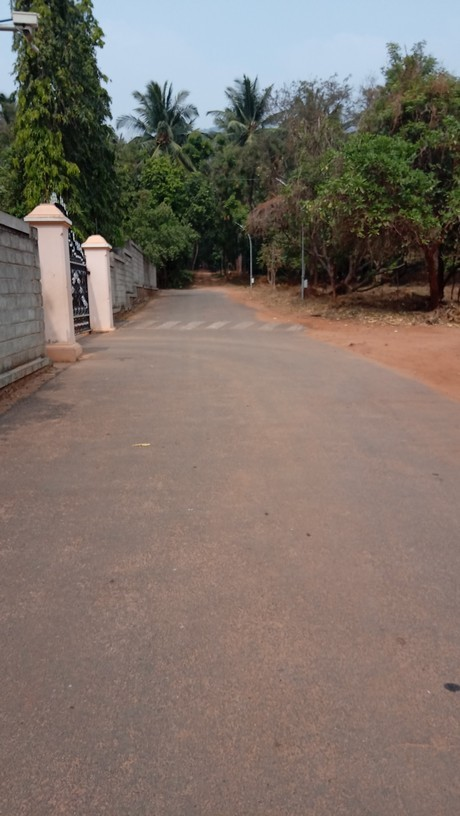bump: (119, 315, 311, 335)
